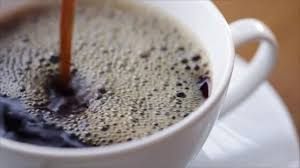cup: (1, 1, 281, 168)
